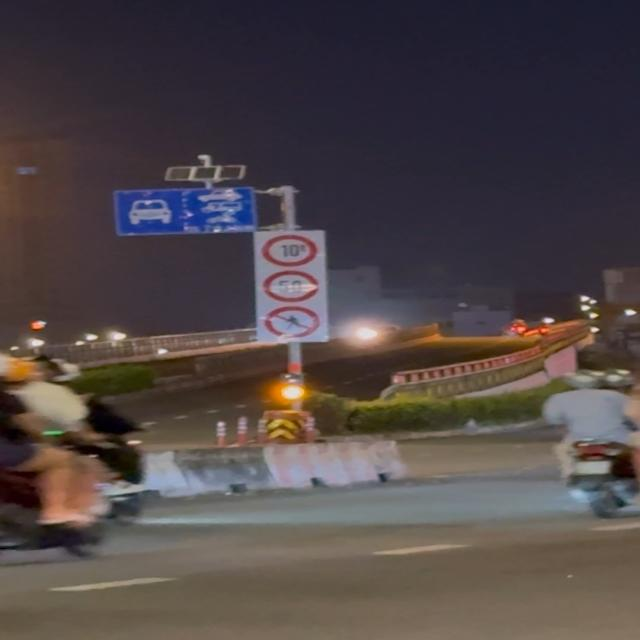Bien bao cam nguoi di bo: (263, 305, 323, 339)
Bien bao toc do toi da cho phep: (262, 270, 318, 302)
